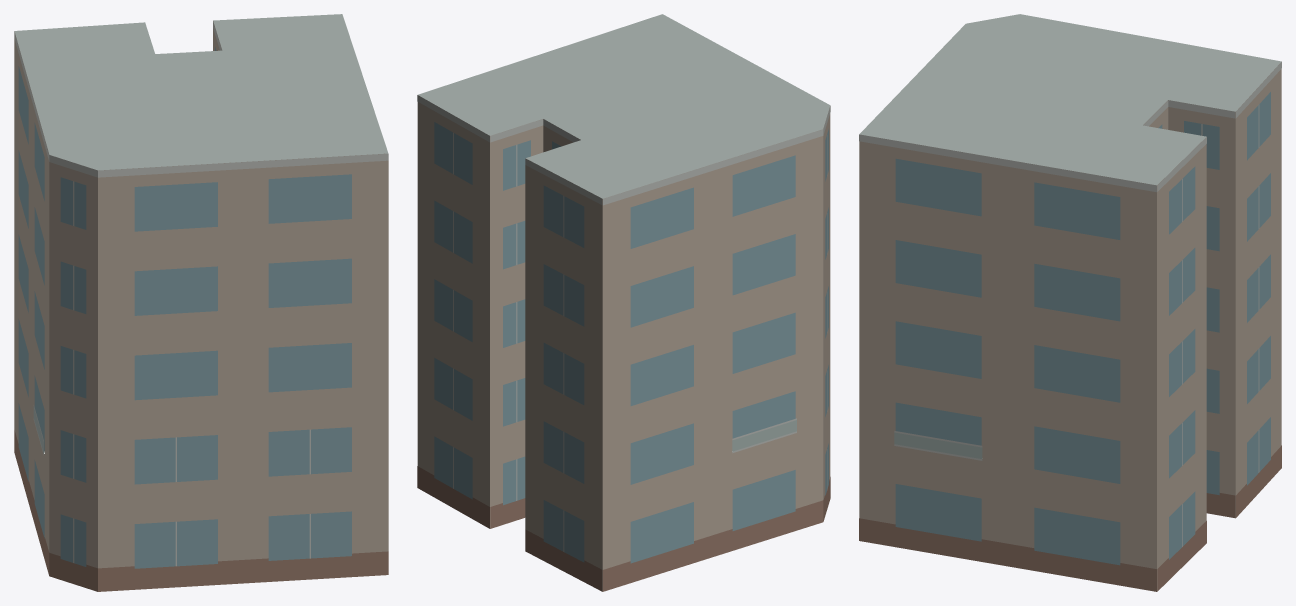
The model's file is survey-upis-32874503.glb.
3 views of the same model, side by side, from view 1: azimuth 30°, elevation 25°; view 2: azimuth 150°, elevation 25°; view 3: azimuth 270°, elevation 25° (orthographic). The views are drawn at different scales.
Visible parts, largest first — view 1: survey-upis-32874503.tmp; view 2: survey-upis-32874503.tmp; view 3: survey-upis-32874503.tmp.
Boxes of the visible parts, x1,y1,x2,y2 form: survey-upis-32874503.tmp: (14, 14, 388, 591); survey-upis-32874503.tmp: (417, 14, 830, 591); survey-upis-32874503.tmp: (859, 14, 1281, 591).
Size of the model in its own units: 12.98 by 14.35 by 13.53.
